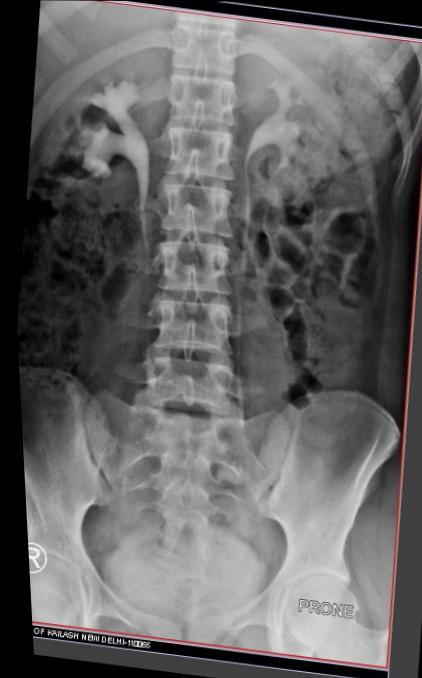left kidney: (259, 35, 408, 234)
vertebrae: (176, 113, 261, 180)
